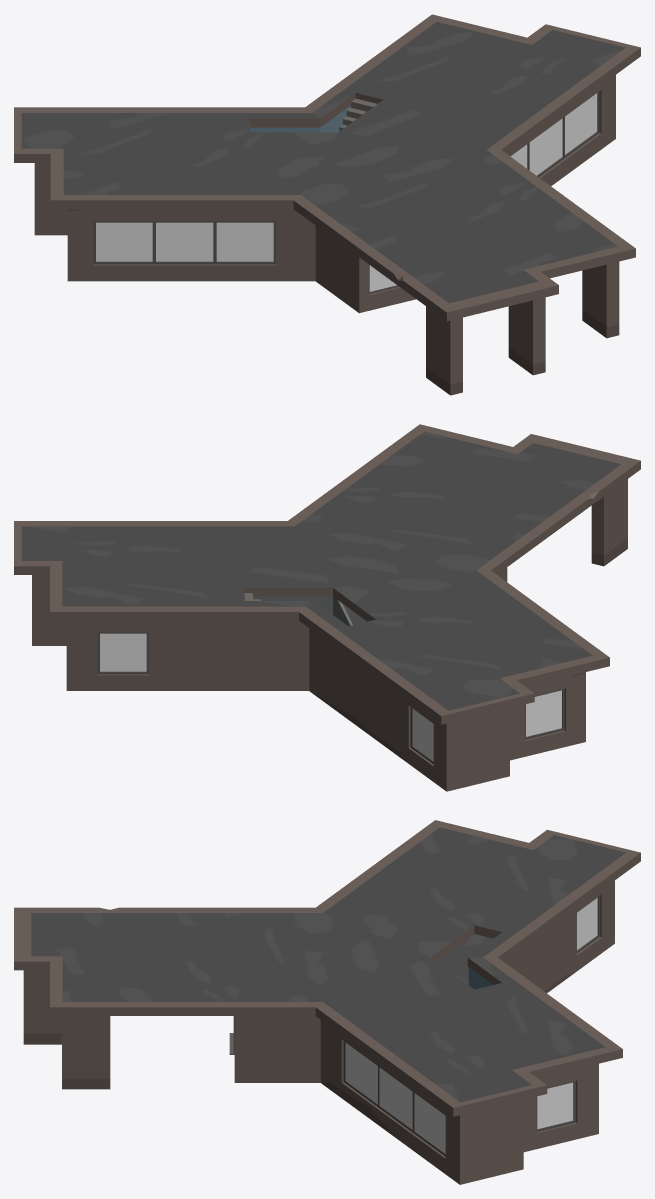
File: SM_Bldg_City_Commercial_02_Base.fbx
The picture shows the model from 3 angles, top to bottom: view 1: azimuth 30°, elevation 25°; view 2: azimuth 150°, elevation 25°; view 3: azimuth 270°, elevation 25°; orthographic projection. The views are drawn at different scales.
Parts seen in each view (by area): view 1: SM_Bldg_City_Commercial_02_Base, SM_Bldg_City_Commercial_02_Base_Glass; view 2: SM_Bldg_City_Commercial_02_Base, SM_Bldg_City_Commercial_02_Base_Glass; view 3: SM_Bldg_City_Commercial_02_Base, SM_Bldg_City_Commercial_02_Base_Glass.
Boxes of the visible parts, left/top/right/bottom form: SM_Bldg_City_Commercial_02_Base: left=14, top=14, right=640, bottom=395; SM_Bldg_City_Commercial_02_Base_Glass: left=96, top=93, right=597, bottom=291; SM_Bldg_City_Commercial_02_Base: left=14, top=424, right=640, bottom=791; SM_Bldg_City_Commercial_02_Base_Glass: left=100, top=633, right=561, bottom=760; SM_Bldg_City_Commercial_02_Base: left=14, top=820, right=640, bottom=1184; SM_Bldg_City_Commercial_02_Base_Glass: left=346, top=898, right=597, bottom=1153.
Size of the model in its own units: 2832 by 402 by 2605.
